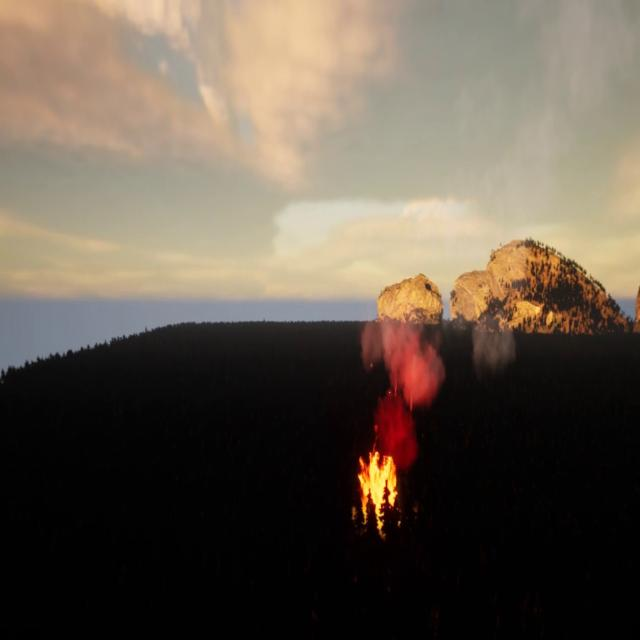fire: (360, 452, 400, 531)
smoke: (362, 308, 444, 461), (468, 299, 520, 377)
